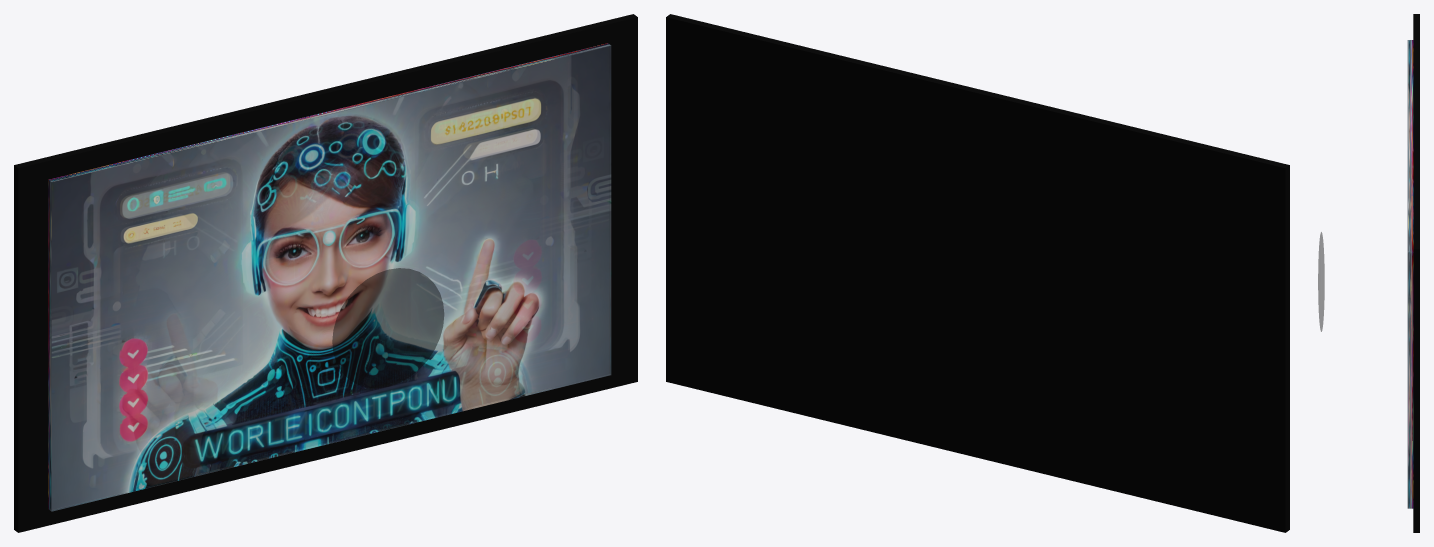
File: home.glb
3 views of the same model, side by side, from view 1: azimuth 30°, elevation 25°; view 2: azimuth 150°, elevation 25°; view 3: azimuth 270°, elevation 25° (orthographic). The views are drawn at different scales.
Parts seen in each view (by area): view 1: Box001, Box003, Sphere001, Box002; view 2: Box003; view 3: Box003, Box001, Box002, Sphere001.
Boxes of the visible parts, x1,y1,x2,y2 form: Box001: [49, 44, 611, 511]; Box003: [14, 14, 637, 532]; Sphere001: [332, 268, 443, 387]; Box002: [48, 43, 608, 509]; Box003: [666, 14, 1289, 532]; Box003: [1413, 14, 1419, 532]; Box001: [1407, 40, 1410, 508]; Box002: [1411, 40, 1413, 508]; Sphere001: [1318, 232, 1324, 331].
Size of the model in its own units: 3.86 by 2.17 by 0.7051.
Materials: 4 (2 with a texture image).
